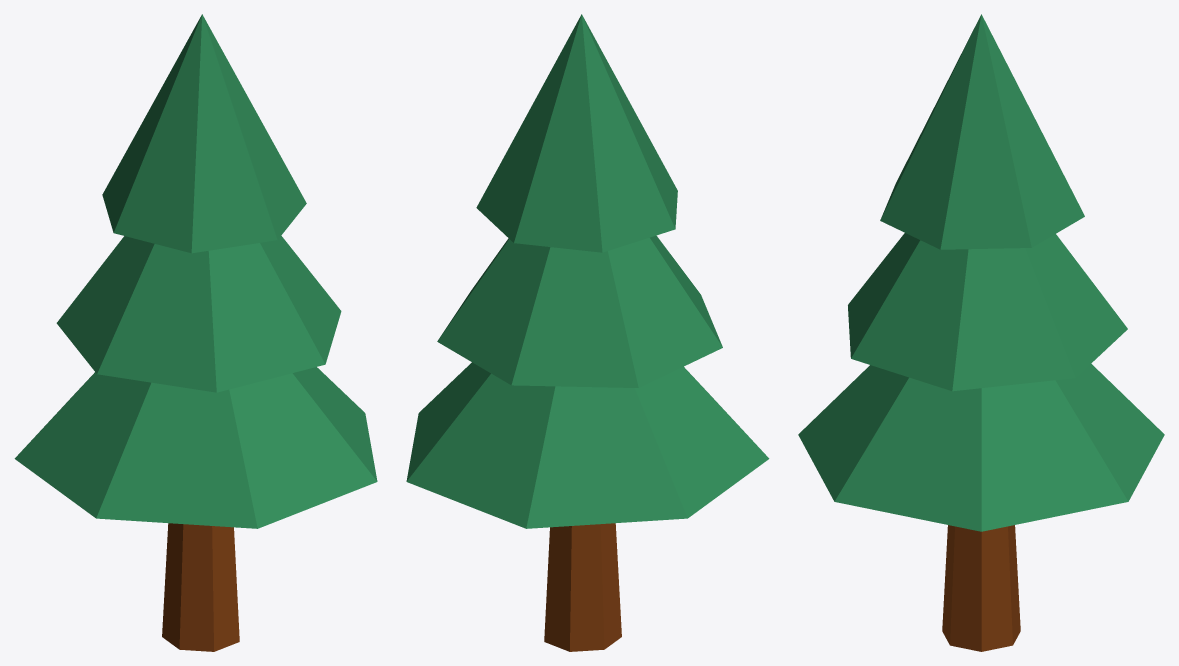
Rendered from low_poly_tree.obj.
3 renders of one model, left to right at view 1: azimuth 30°, elevation 25°; view 2: azimuth 150°, elevation 25°; view 3: azimuth 270°, elevation 25°, orthographic.
Parts seen in each view (by area): view 1: low_poly_tree; view 2: low_poly_tree; view 3: low_poly_tree.
Part boxes in pixels (<box>): low_poly_tree: <box>14,14,377,651</box>; low_poly_tree: <box>406,14,769,651</box>; low_poly_tree: <box>798,14,1164,651</box>.
Bounding box in the file's own units: 2.66 × 5.1 × 2.73.
